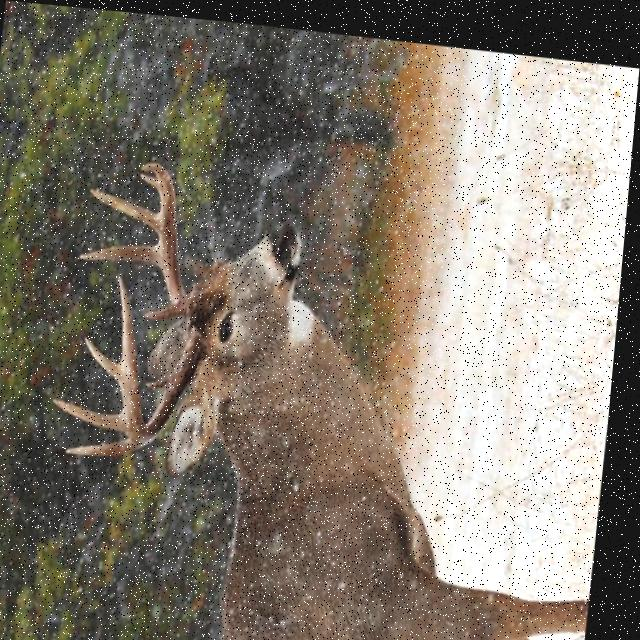E1: (142, 169, 163, 186)
L-F: (122, 269, 208, 441)
L-G1: (153, 370, 176, 386)
L-G2: (73, 434, 151, 452)
L-G3: (59, 394, 133, 426)
L-G4: (90, 333, 127, 378)
R-G1: (148, 297, 185, 314)
R-G2: (83, 239, 165, 260)
R-G3: (91, 184, 164, 227)
